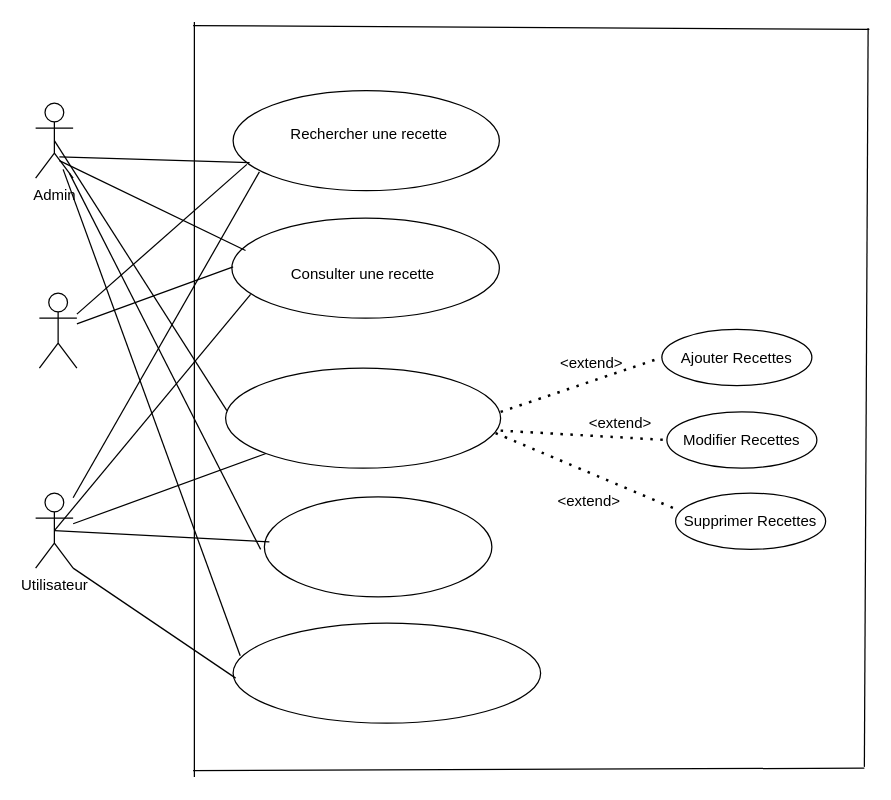
Image size: 891x800. Some labels were removed from this diagram. The centre of each missing label's shape, as x and y in pixels:
Gérer recettes: point (362, 417)
Laisser Commentaire: point (386, 672)
s'authentifier: point (377, 546)
Visiteur: point (57, 330)
